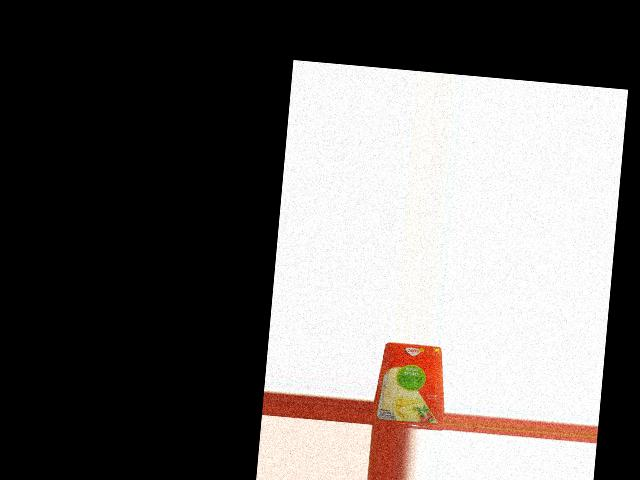cheese: (373, 341, 450, 431)
